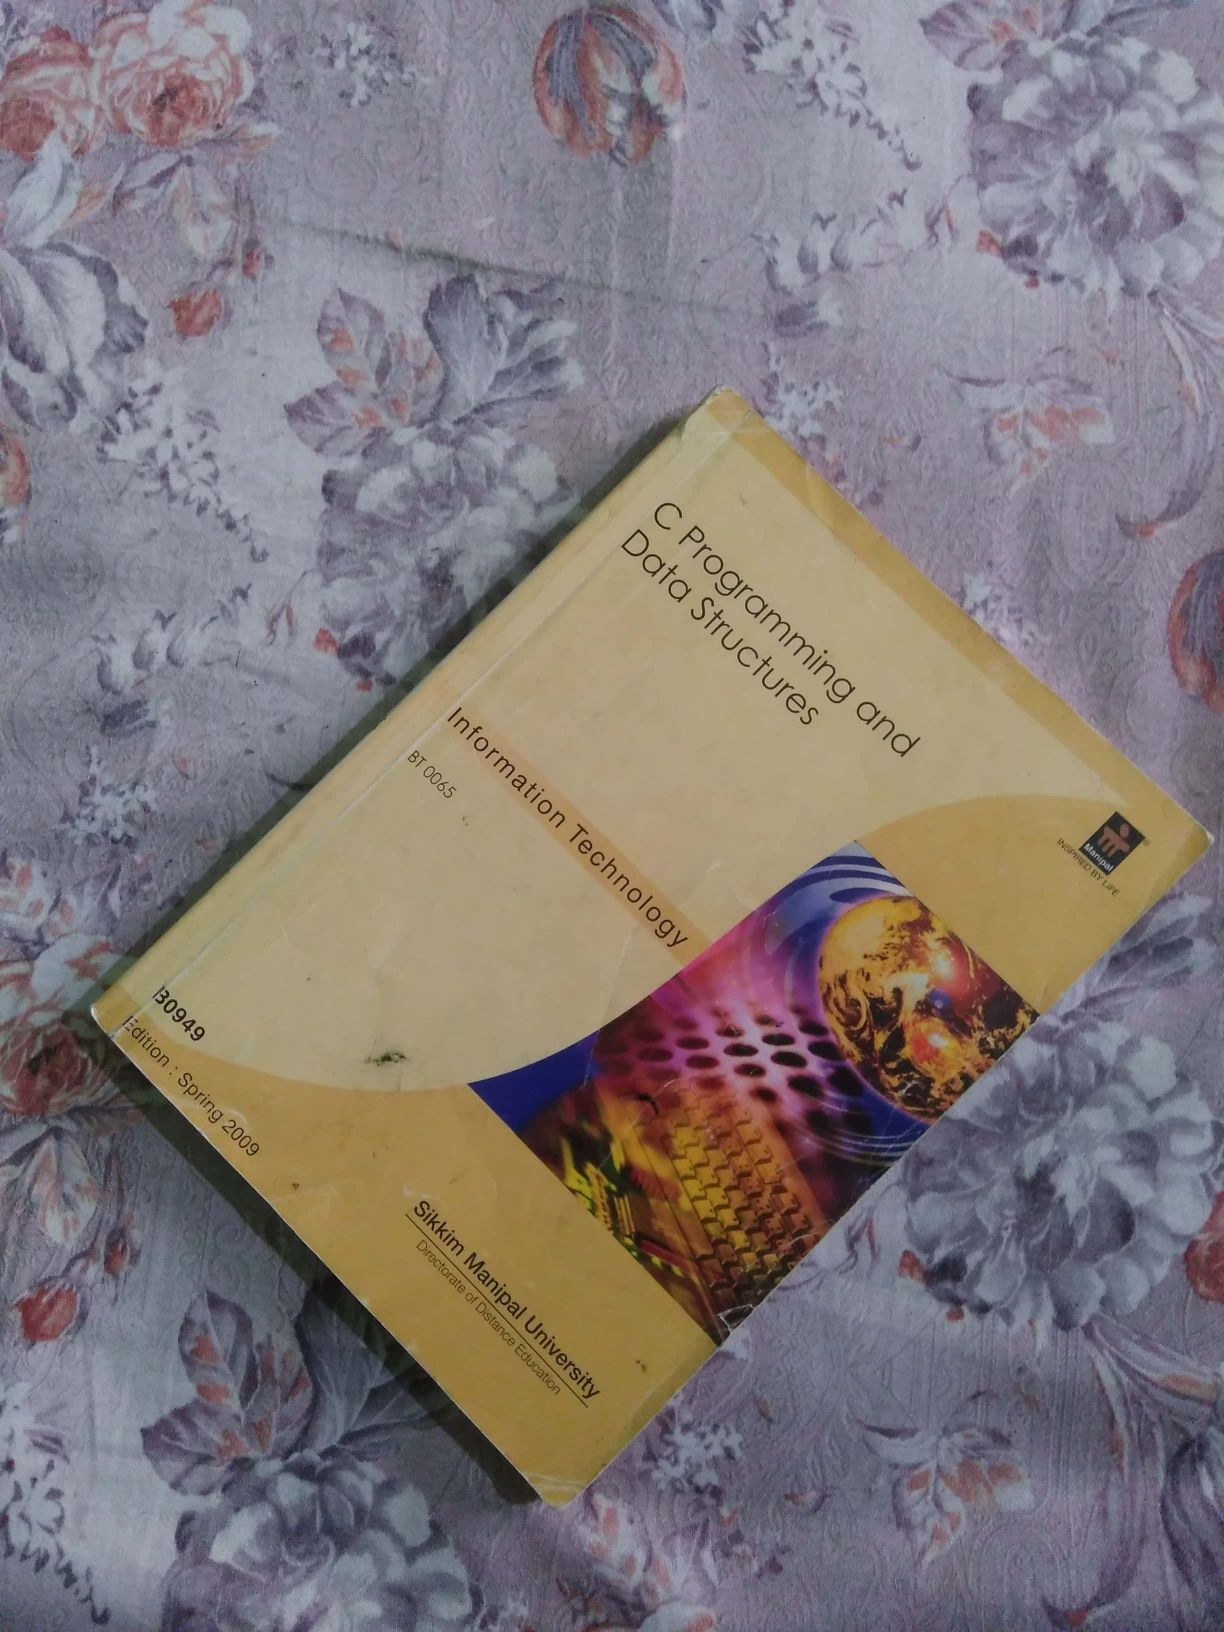clang: (127, 392, 1086, 1408)
